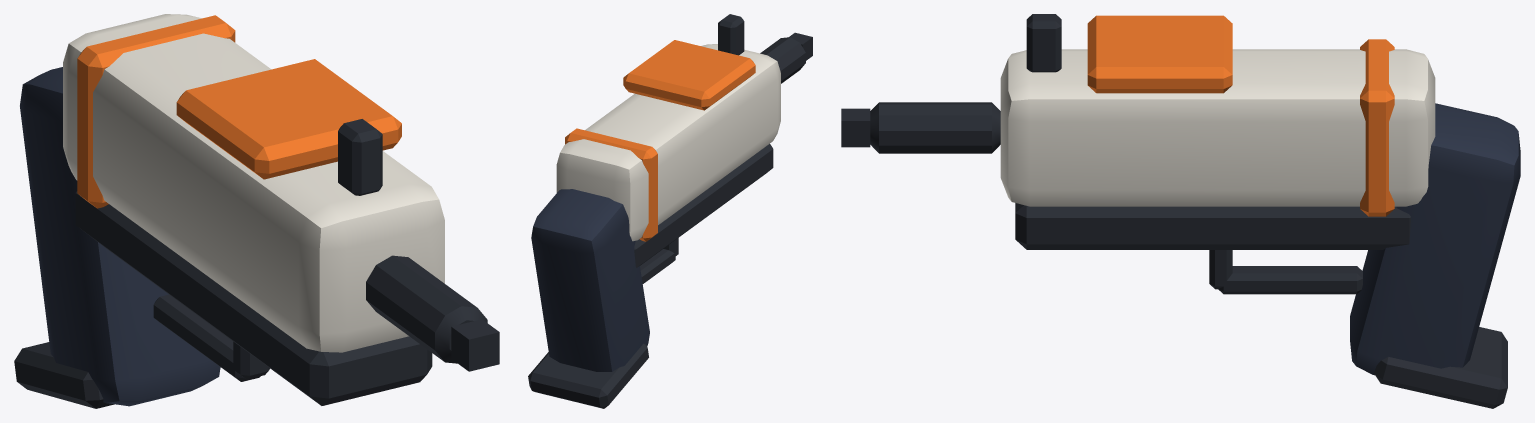
The model's file is wpn_pistol.fbx.
The picture shows the model from 3 angles, left to right: view 1: azimuth 30°, elevation 25°; view 2: azimuth 150°, elevation 25°; view 3: azimuth 270°, elevation 25°; orthographic projection. The views are drawn at different scales.
Visible parts, largest first — view 1: Body, Muzzle; view 2: Body, Muzzle; view 3: Body, Muzzle.
Boxes of the visible parts, bbox=[...] form: Body: bbox=[14, 14, 487, 408]; Muzzle: bbox=[451, 319, 499, 371]; Body: bbox=[528, 14, 805, 408]; Muzzle: bbox=[789, 32, 812, 60]; Body: bbox=[870, 14, 1520, 408]; Muzzle: bbox=[841, 108, 870, 147].
Size of the model in its own units: 0.48 by 1.4 by 2.34.
2 materials, 1 textured.
